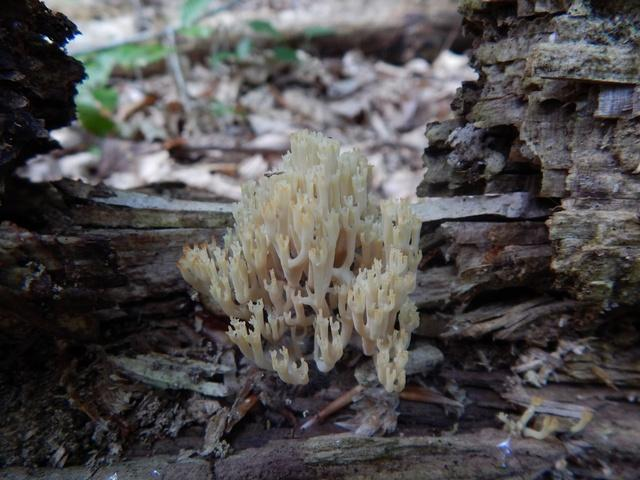Edible Mushroom: (176, 127, 423, 394)
